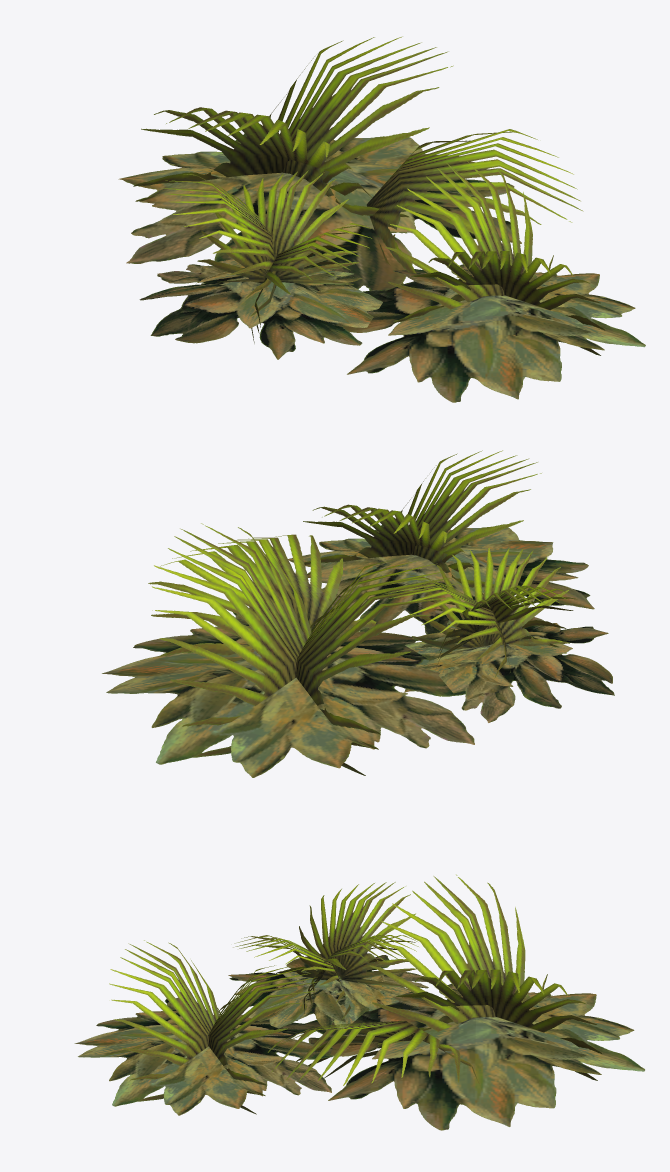
Rendered from Dream_Plant05.FBX.
3 views of the same model, one above another, from view 1: azimuth 30°, elevation 25°; view 2: azimuth 150°, elevation 25°; view 3: azimuth 270°, elevation 25° (orthographic). The views are drawn at different scales.
Visible parts, largest first — view 1: Dream_Plant05; view 2: Dream_Plant05; view 3: Dream_Plant05.
Boxes of the visible parts, x1=… form: Dream_Plant05: x1=118, y1=36, x2=645, y2=402; Dream_Plant05: x1=102, y1=450, x2=614, y2=777; Dream_Plant05: x1=74, y1=874, x2=644, y2=1130.
Size of the model in its own units: 1.15 by 0.4623 by 1.45.
